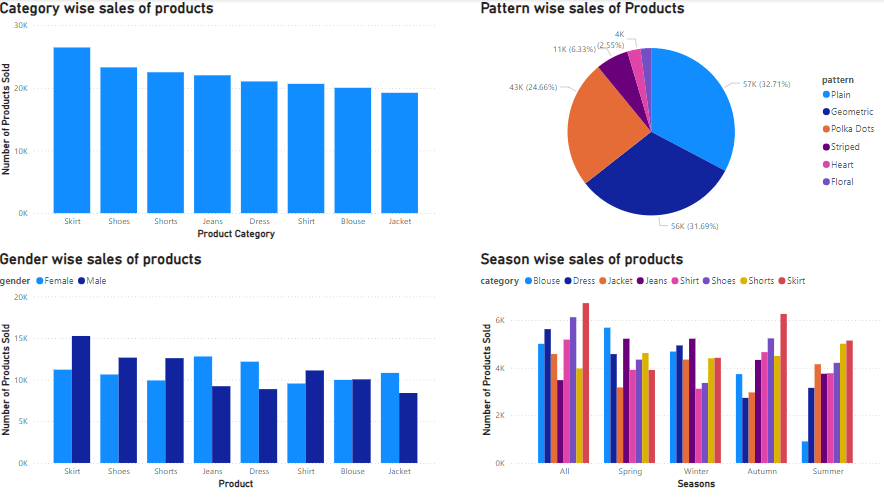

The page's visual inventory and layout, read from the dashboard file:
{"tool":"powerbi","page":{"name":"Page 1","canvas":[1280,720],"ordinal":0},"visuals":[{"type":"clusteredColumnChart","title":"Category wise sales of products","fields":{"Y":["Sum(fashion_data_2018_2022.sales_count)"],"Category":["fashion_data_2018_2022.category"]},"box":[0,0,640.6,351.5],"z":0},{"type":"pieChart","title":"Pattern wise sales of Products","fields":{"Y":["Sum(fashion_data_2018_2022.sales_count)"],"Category":["fashion_data_2018_2022.pattern"]},"box":[693.3,0,586.7,358.3],"z":1},{"type":"clusteredColumnChart","title":"Gender wise sales of products","fields":{"Y":["Sum(fashion_data_2018_2022.sales_count)"],"Category":["fashion_data_2018_2022.category"],"Series":["fashion_data_2018_2022.gender"]},"box":[0,361.7,640,350],"z":2},{"type":"clusteredColumnChart","title":"Season wise sales of products","fields":{"Category":["fashion_data_2018_2022.season"],"Y":["Sum(fashion_data_2018_2022.sales_count)"],"Series":["fashion_data_2018_2022.category"]},"box":[693.3,361.7,586.7,350],"z":3}]}

Visuals, with their boxes in screenshot pixels (x1, y1, x2, y2), scaled from the page's 1280x720 canvas onto the 884x498 screenshot:
"Category wise sales of products" clusteredColumnChart: region(0, 0, 442, 243)
"Pattern wise sales of Products" pieChart: region(479, 0, 883, 248)
"Gender wise sales of products" clusteredColumnChart: region(0, 250, 442, 492)
"Season wise sales of products" clusteredColumnChart: region(479, 250, 883, 492)
